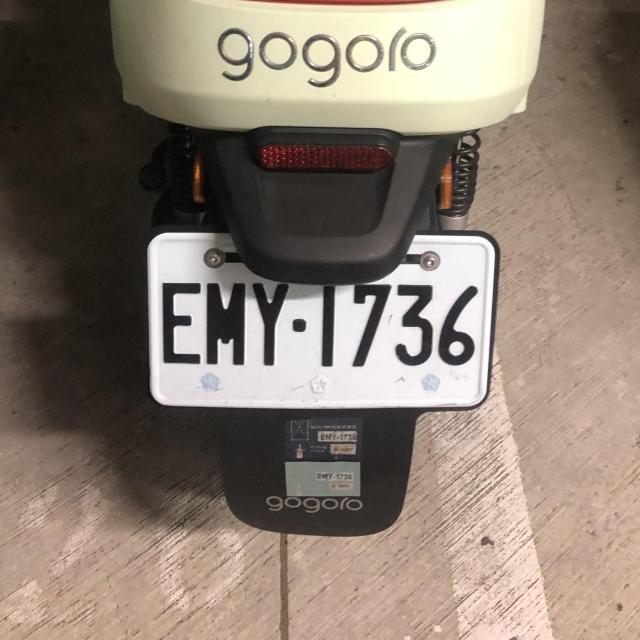W: (140, 244, 500, 416)
